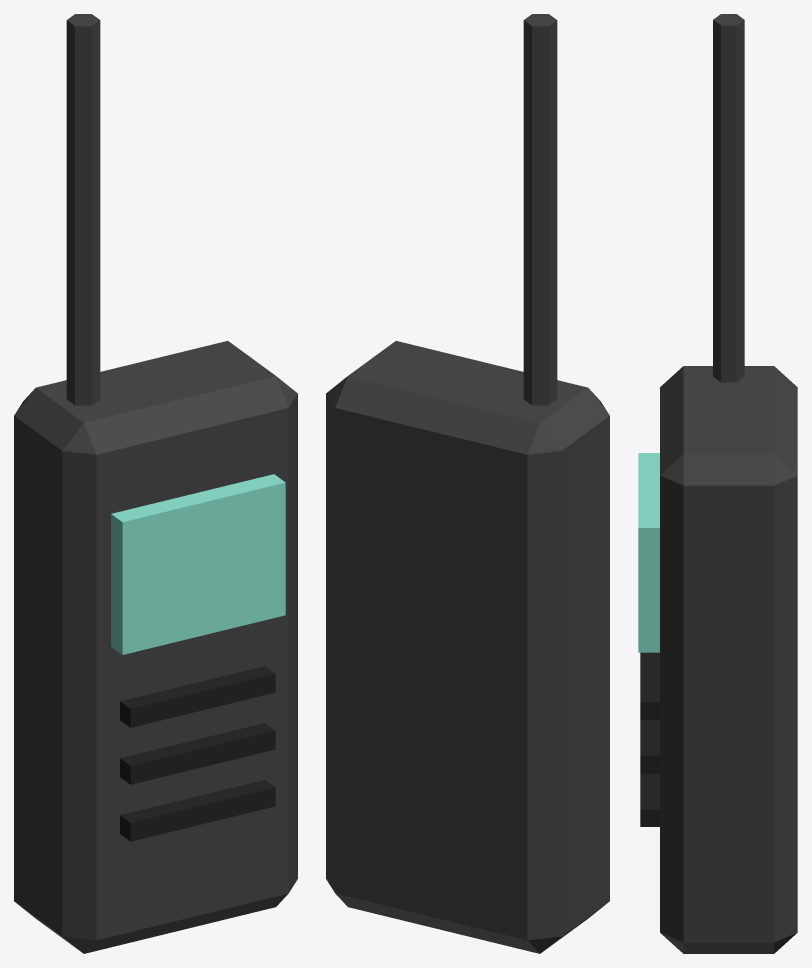
The picture shows the model from 3 angles, left to right: view 1: azimuth 30°, elevation 25°; view 2: azimuth 150°, elevation 25°; view 3: azimuth 270°, elevation 25°; orthographic projection. The views are drawn at different scales.
Parts seen in each view (by area): view 1: Radio, Screen, Antenna, Speaker slot.001, Speaker slot.002, Speaker slot; view 2: Radio, Antenna; view 3: Radio, Antenna, Screen, Speaker slot.002, Speaker slot, Speaker slot.001.
Boxes of the visible parts, x1=… form: Radio: x1=14, y1=341, x2=297, y2=953; Screen: x1=111, y1=474, x2=285, y2=654; Antenna: x1=66, y1=14, x2=100, y2=405; Speaker slot.001: x1=120, y1=723, x2=275, y2=784; Speaker slot.002: x1=120, y1=666, x2=275, y2=727; Speaker slot: x1=120, y1=780, x2=275, y2=841; Radio: x1=326, y1=341, x2=609, y2=953; Antenna: x1=523, y1=14, x2=557, y2=405; Radio: x1=660, y1=366, x2=797, y2=953; Antenna: x1=713, y1=14, x2=744, y2=382; Screen: x1=638, y1=453, x2=659, y2=652; Speaker slot.002: x1=640, y1=652, x2=659, y2=719; Speaker slot: x1=640, y1=773, x2=659, y2=826; Speaker slot.001: x1=640, y1=720, x2=659, y2=773.
Bounding box in the file's own units: 13 × 48 × 8.1.
